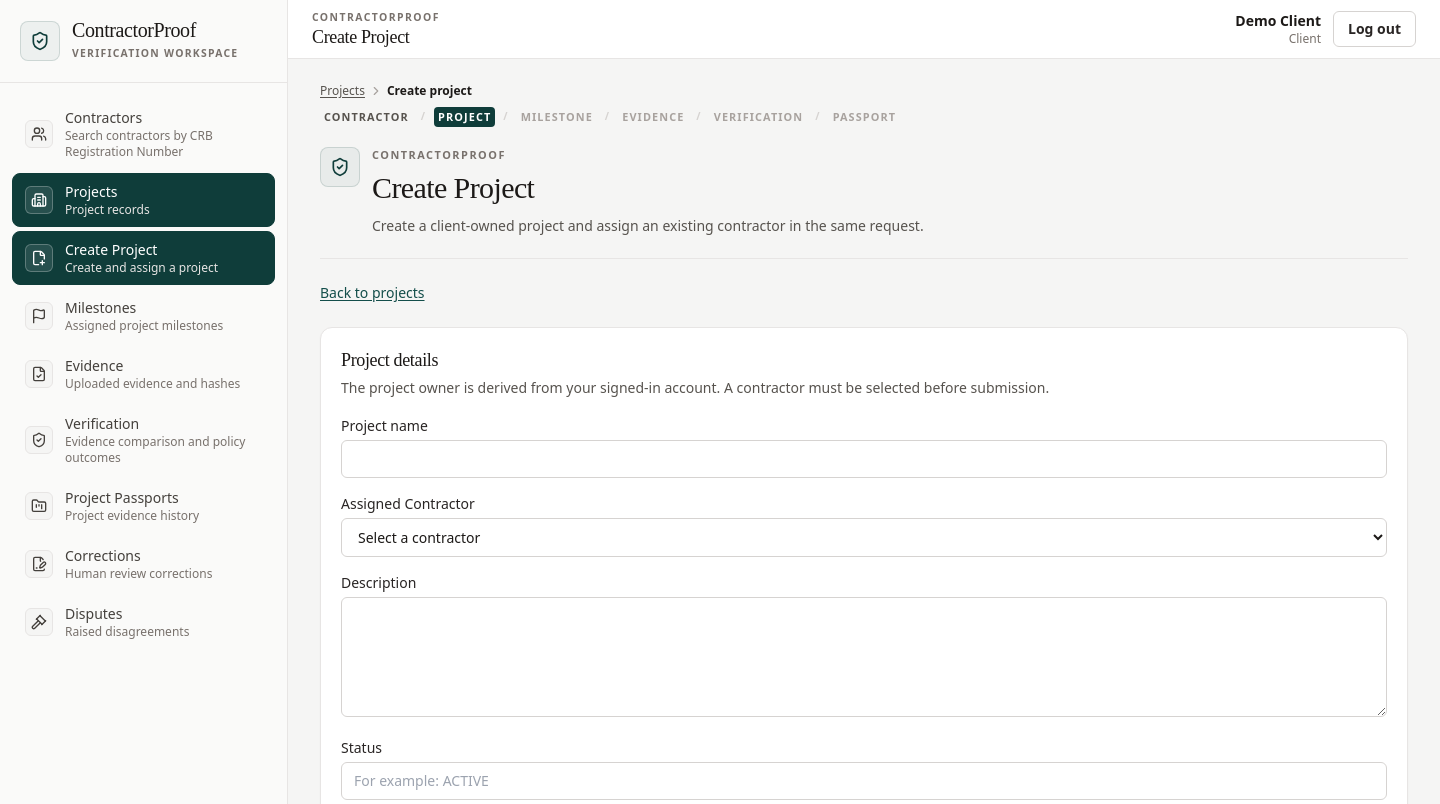
projects › creates a project from the backend-backed form
This screenshot has width=1440, height=804.
Type "New bridge" into the field labelled "Project name".
click(864, 460); type("New bridge")  # box [341, 440, 1387, 478]
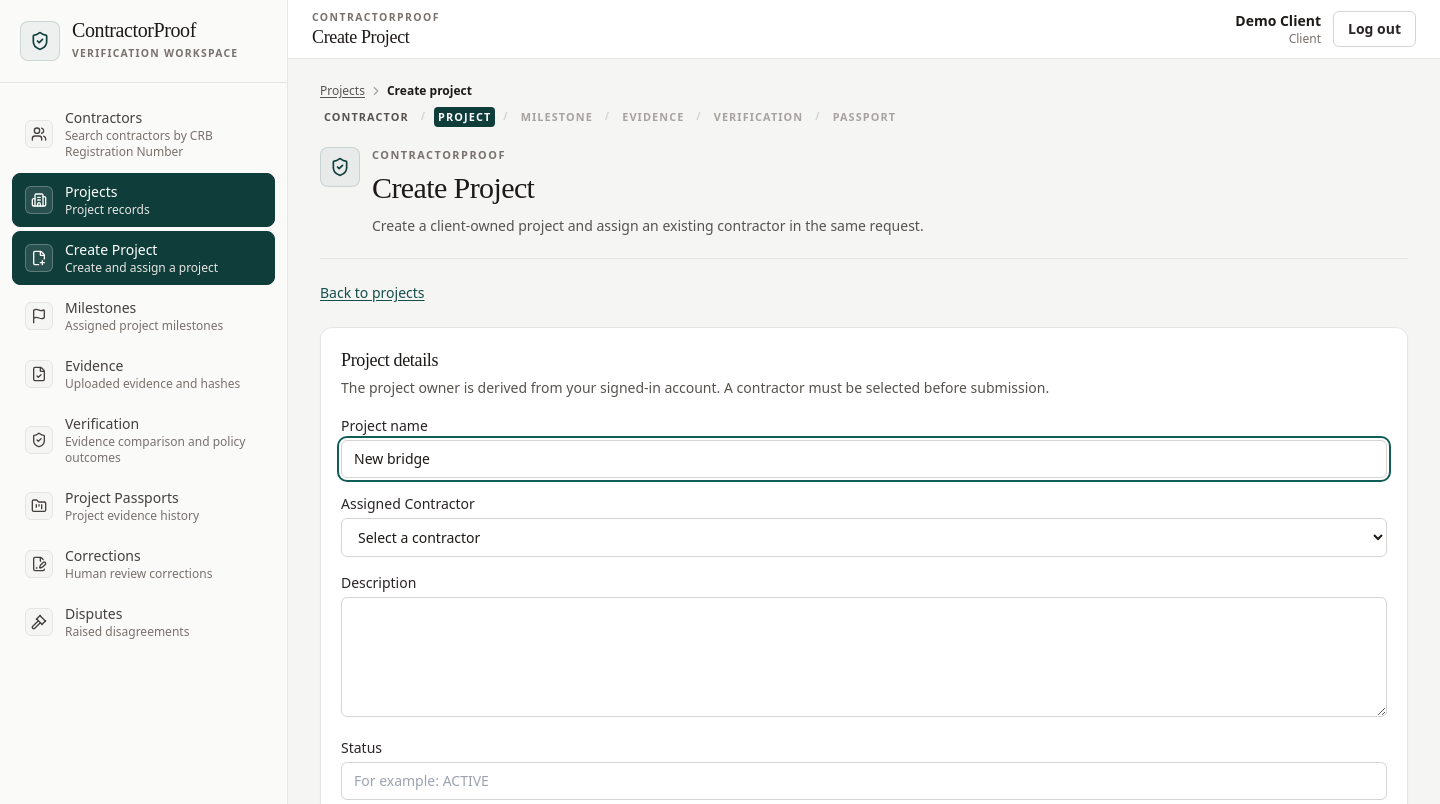
Type "Bridge description" into the text box labelled "Description".
click(864, 658); type("Bridge description")  # box [341, 598, 1387, 718]
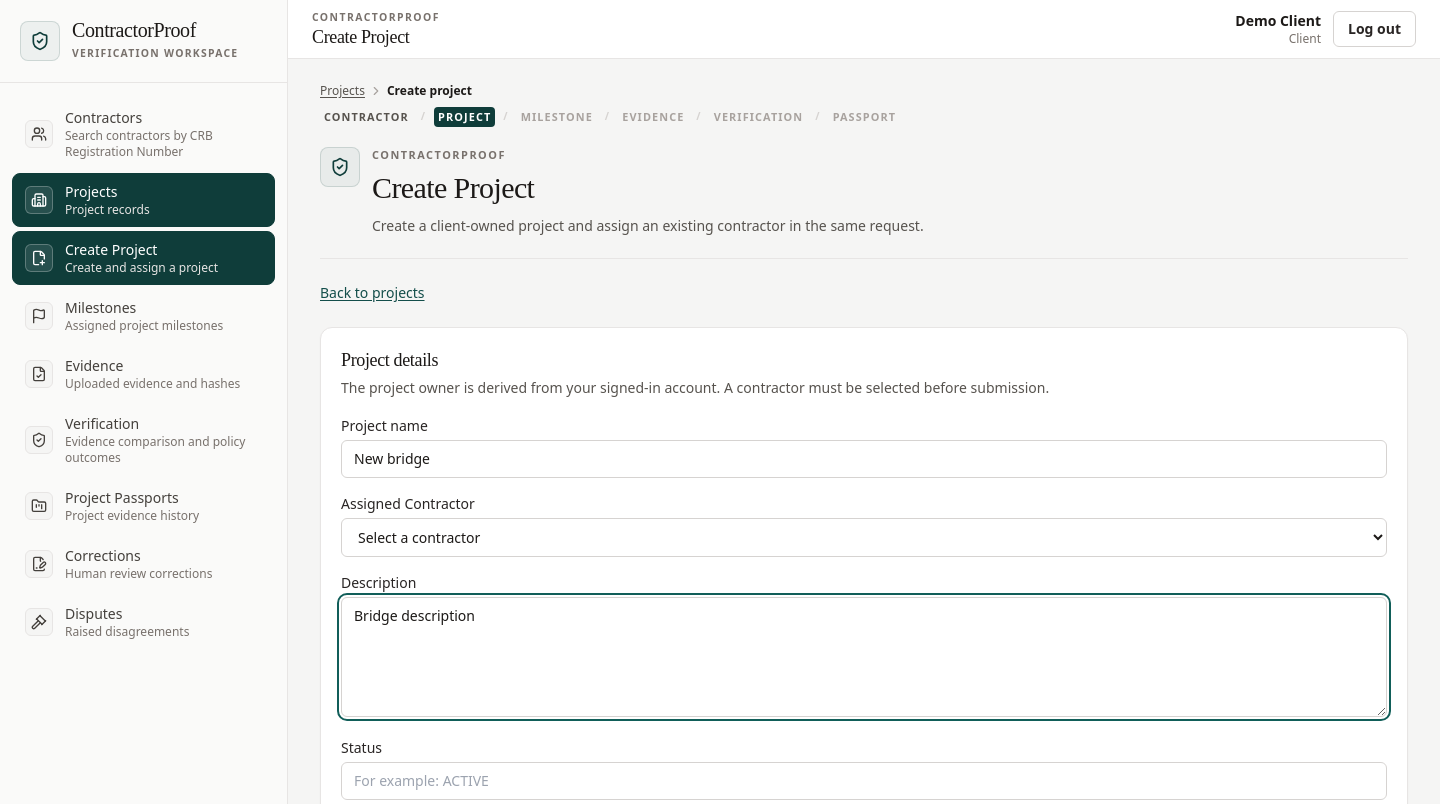
Select "Harbor Works Ltd" in the dropdown labelled "Assigned Contractor" at (864, 538), box [341, 518, 1387, 558]
(page scrolled)
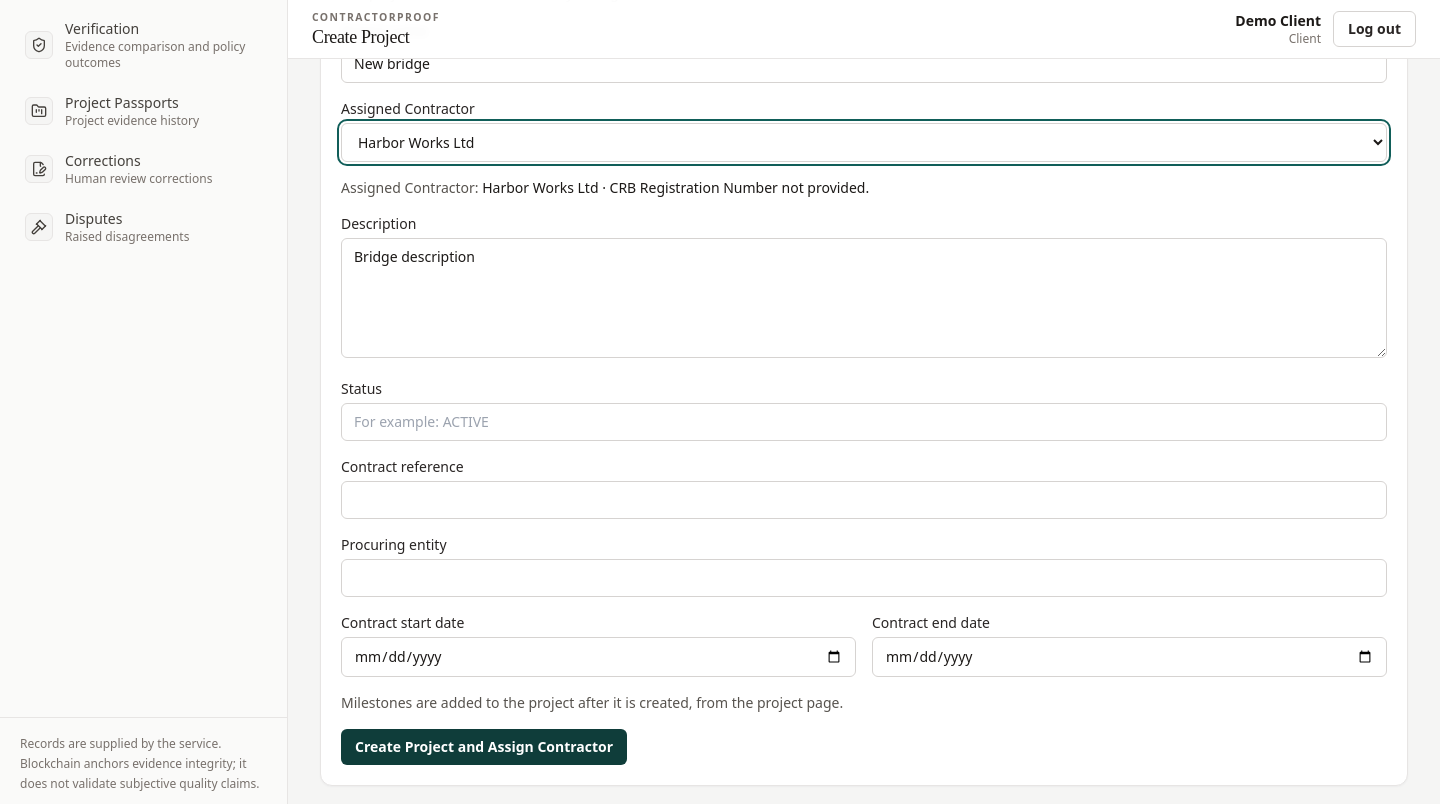
Click the button "Create Project and Assign Contractor".
click(484, 748)  # box [341, 730, 627, 766]
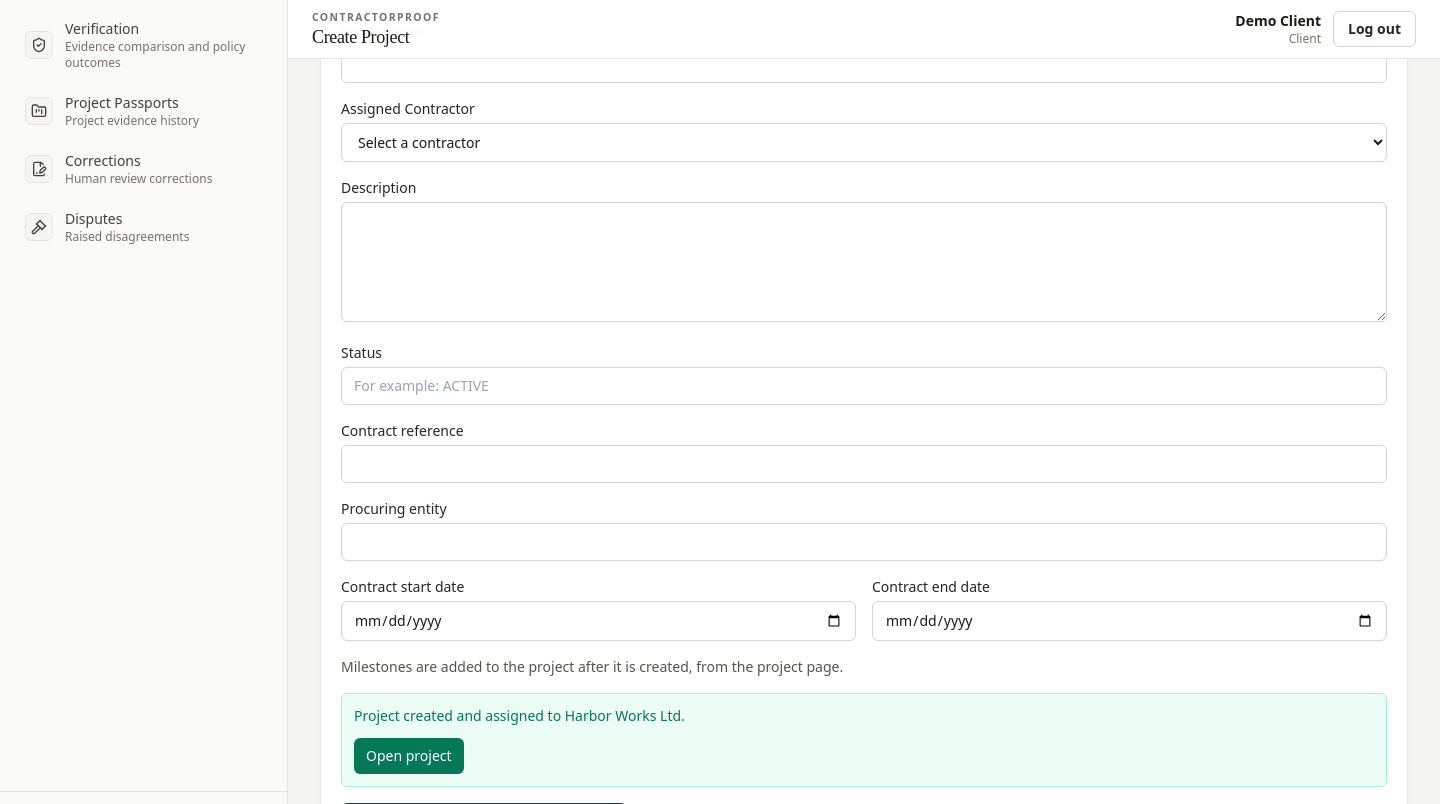
Check: the text "Project created and assigned to Harbor Works Ltd." is shown, box [354, 706, 685, 726]
